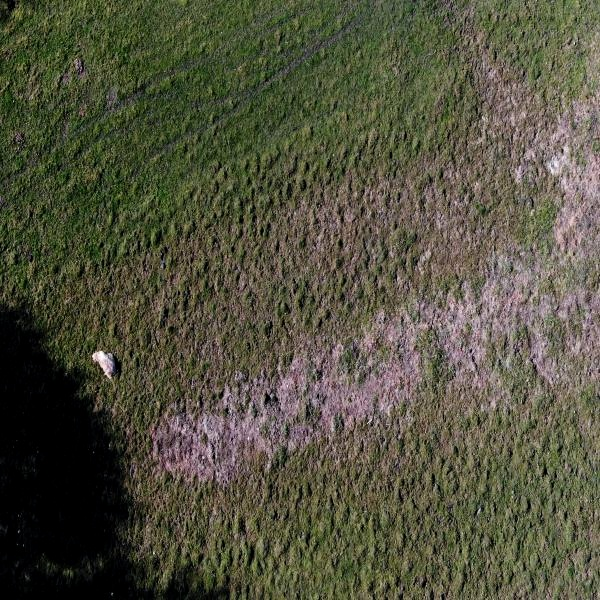sheep: (90, 345, 127, 391)
